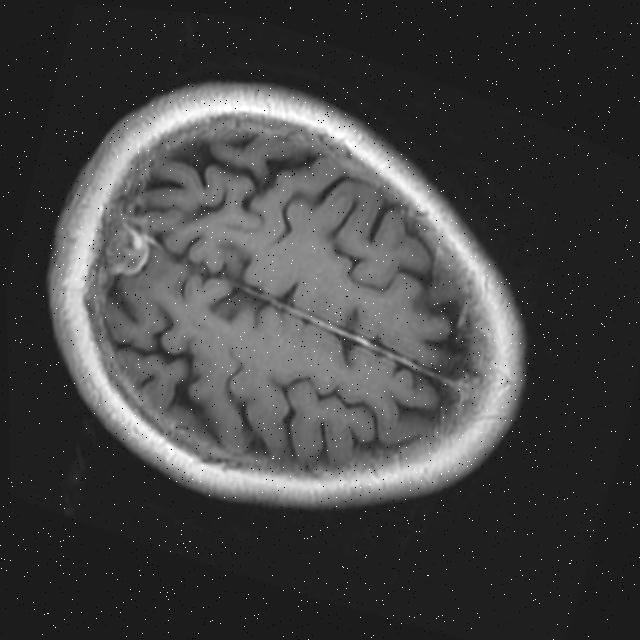Meningioma: (96, 215, 161, 288)
